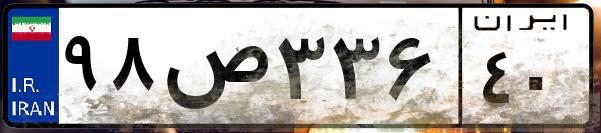0: (525, 38, 570, 115)
3: (270, 28, 330, 110), (330, 28, 385, 110)
4: (475, 38, 525, 113)
6: (385, 28, 445, 110)
8: (110, 28, 158, 98)
9: (57, 26, 110, 100)
ص: (158, 20, 270, 120)
